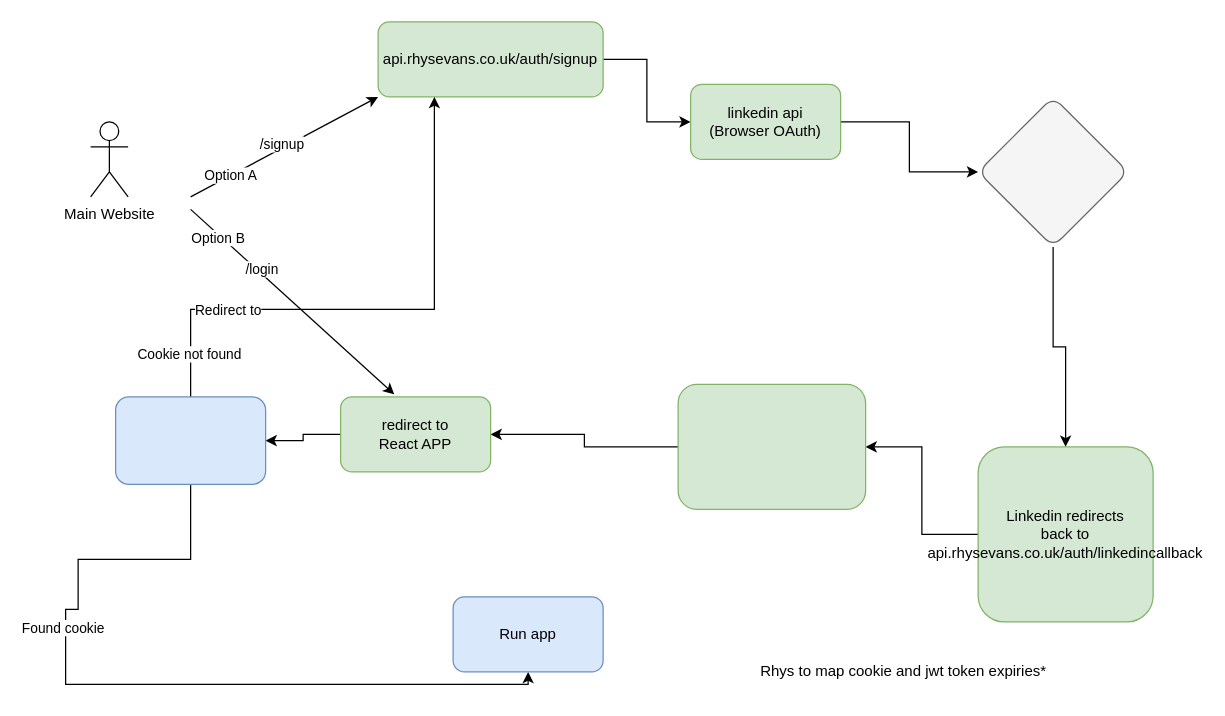
Image size: 1225x716. Some labels were removed from this diagram. The shapes that lost their labels are listed below. From the top down, each one's box as (x1, y1, x2, y2) in pixels, then its label:
(977, 96, 1128, 247): user logs in to Linkedin
(114, 396, 266, 484): React pull cookie and lookup "access_token"
(677, 383, 866, 509): api.rhysevans.co.uk/auth issues jwt token in cookie "access_token"
